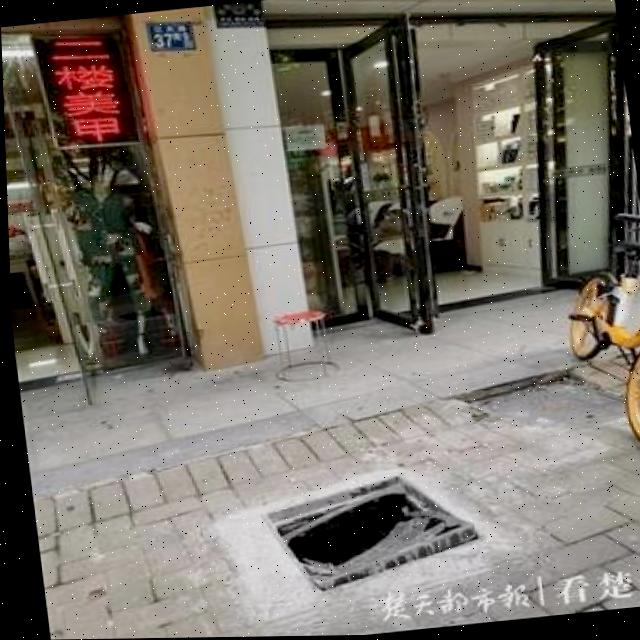manhole: (229, 460, 488, 597)
